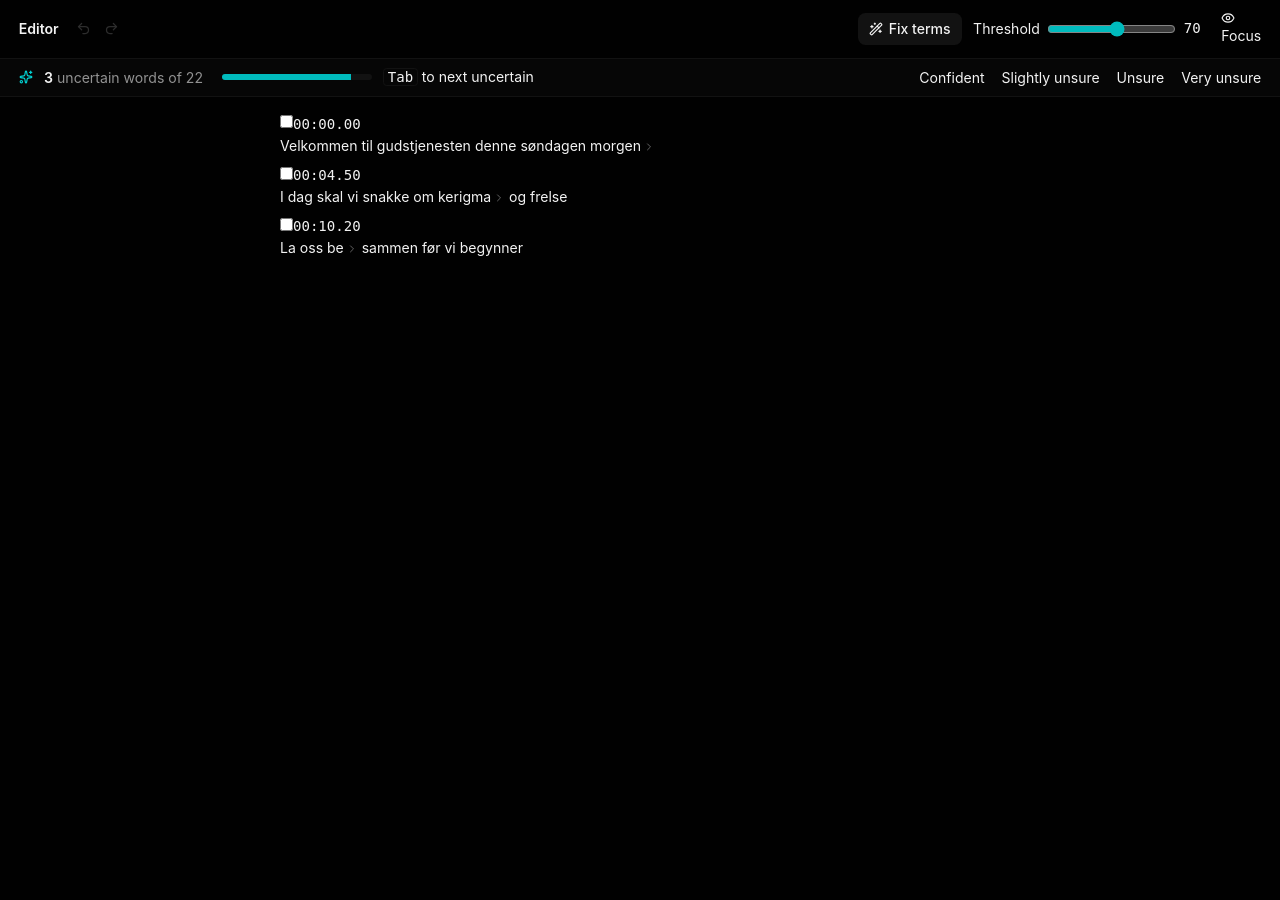
Test: CaptionEditor — bulk action bar › shows the bar with a live count once captions are selected
Expected: the text "selected" is not shown
Click the checkbox named "Select caption" next to "00:00.00".
click(286, 122)  # box [280,115,293,128]
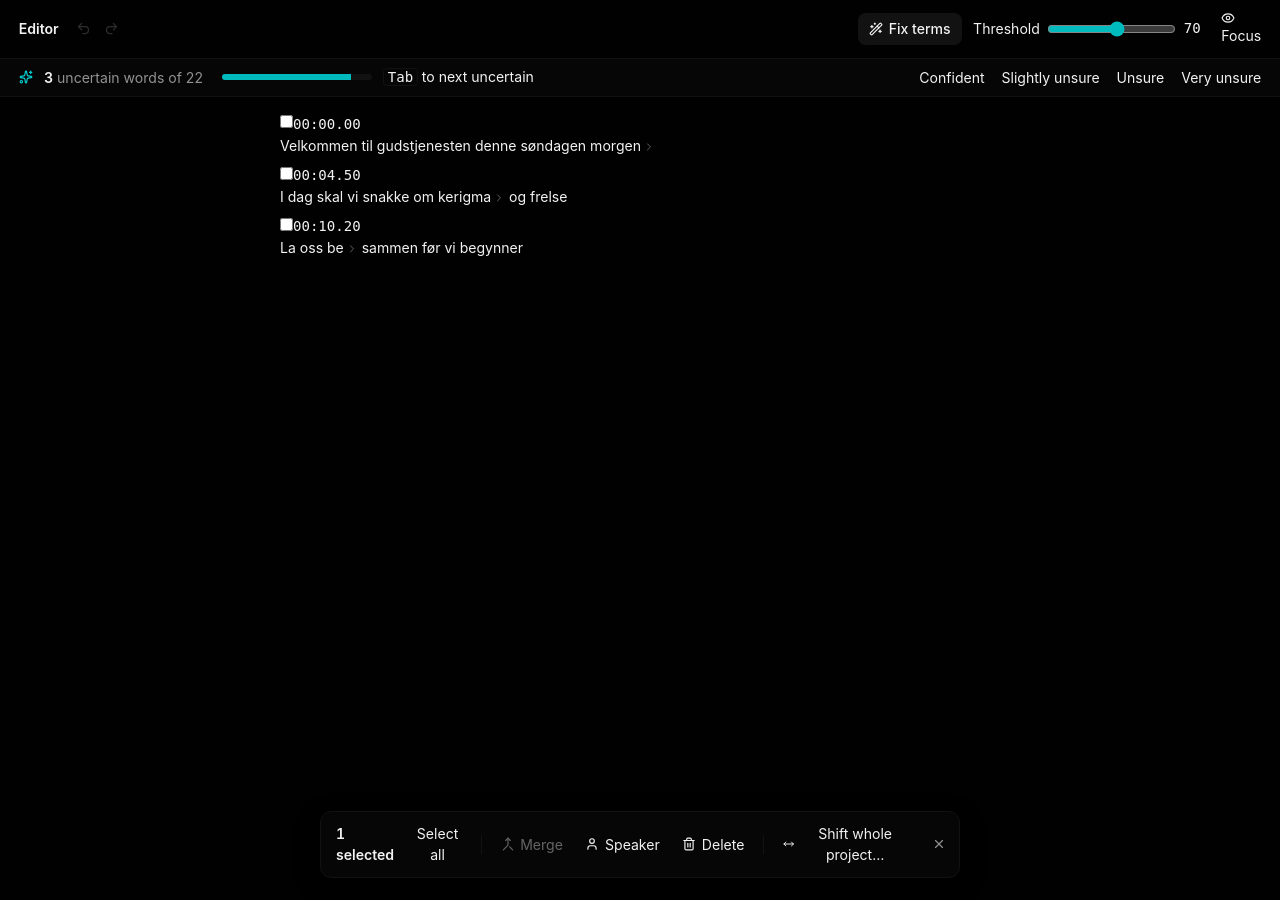
Expected: the text "1 selected" is shown, [332,823,398,865]
Click the checkbox named "Select caption" next to "00:04.50".
click(286, 173)  # box [280,167,293,180]
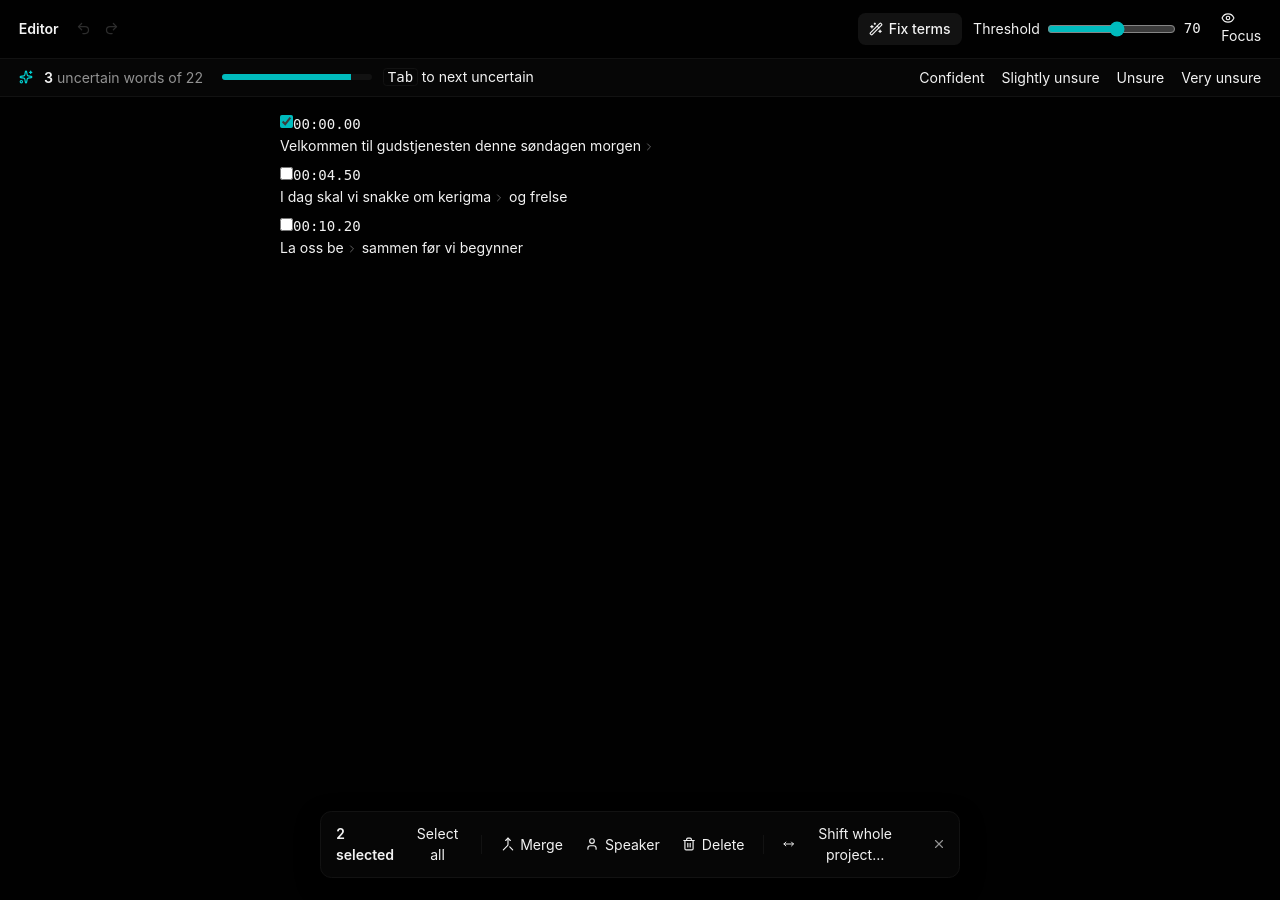
Expected: the text "2 selected" is shown, [332,823,398,865]
